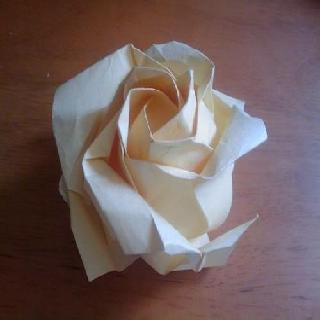8/可回收垃圾/纸: (50, 39, 269, 284)
